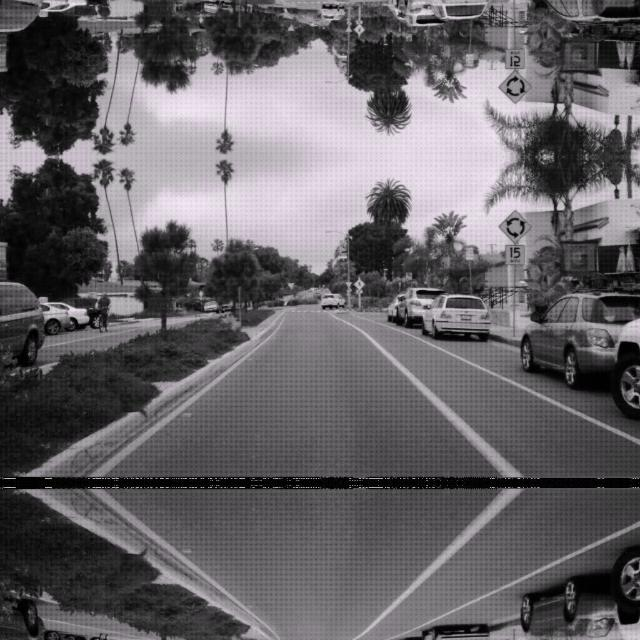pedestrianCrossing: (354, 276, 364, 288), (354, 24, 364, 36)
